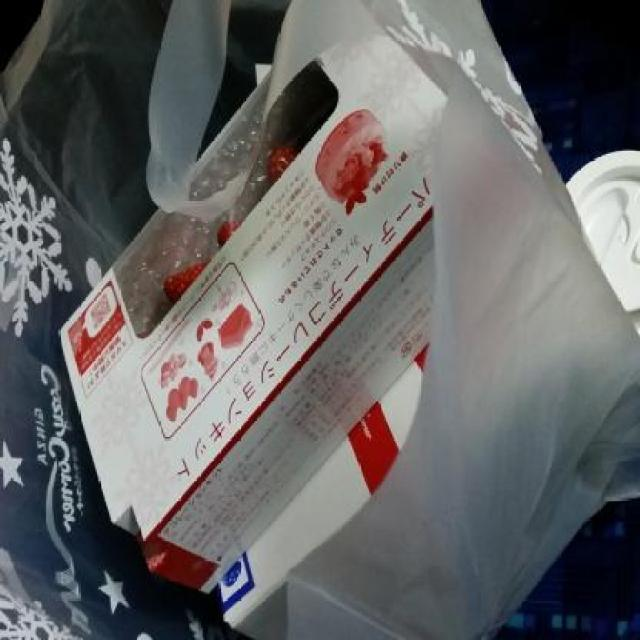plastic bag: (144, 0, 640, 638)
